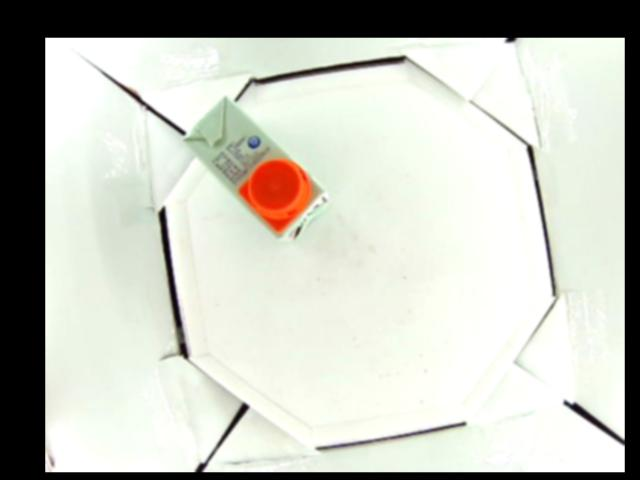Bottle: (184, 93, 329, 244)
